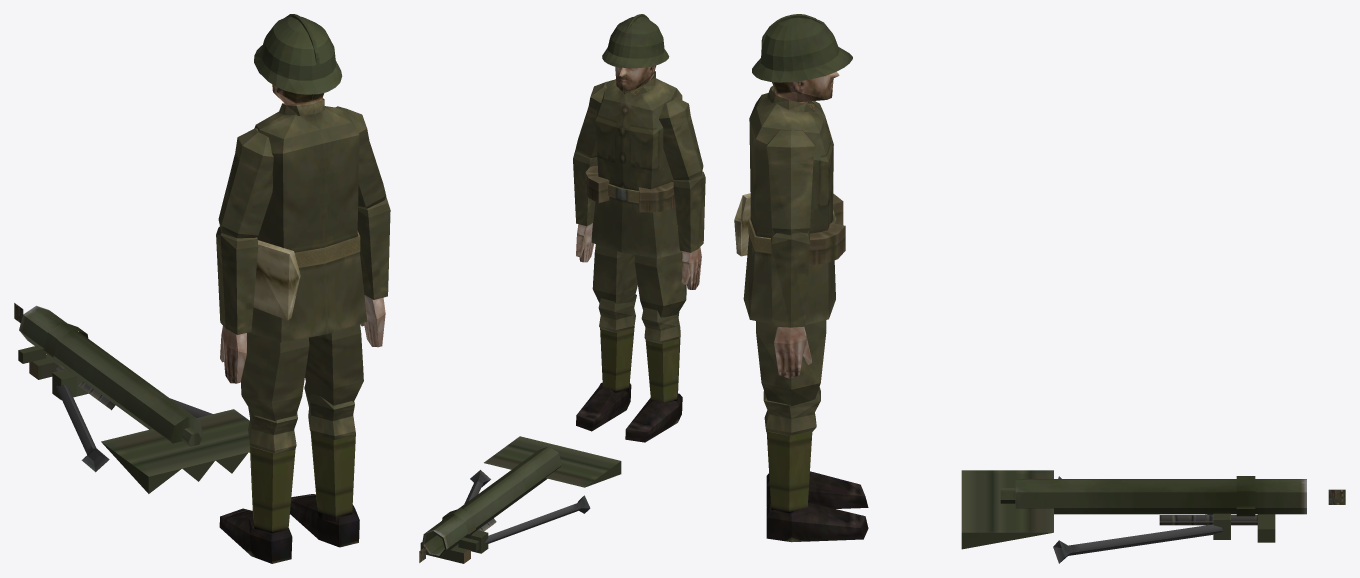
Rendered from us_mortar.glb.
3 renders of one model, left to right at view 1: azimuth 30°, elevation 25°; view 2: azimuth 150°, elevation 25°; view 3: azimuth 270°, elevation 25°, orthographic. The views are drawn at different scales.
Parts seen in each view (by area): view 1: torso, mortartube, mortarbase, head, rleg, lleg, lloarm, lthigh, luparm, rthigh, rloarm, mortarstand (+3 smaller); view 2: torso, mortartube, head, mortarbase, lleg, rleg, lloarm, lthigh, luparm, mortarstand, rthigh, rloarm (+3 smaller); view 3: torso, mortartube, head, mortarbase, rloarm, rleg, ruparm, mortarstand, rthigh, rfoot, lfoot.
Part boxes in pixels (x1,y1,x2,y2): torso: [248, 98, 367, 342]; mortartube: [19, 305, 202, 446]; mortarbase: [101, 409, 249, 493]; head: [254, 14, 342, 105]; rleg: [304, 382, 355, 521]; lleg: [248, 407, 297, 533]; lloarm: [216, 226, 258, 383]; lthigh: [241, 332, 309, 421]; luparm: [218, 128, 273, 238]; rthigh: [305, 324, 363, 405]; rloarm: [357, 196, 390, 347]; mortarstand: [18, 345, 212, 472]; torso: [585, 71, 682, 258]; mortartube: [422, 446, 561, 557]; head: [602, 14, 669, 91]; mortarbase: [484, 436, 621, 487]; lleg: [641, 307, 680, 403]; rleg: [598, 294, 636, 393]; lloarm: [673, 171, 705, 289]; lthigh: [634, 252, 686, 317]; luparm: [659, 97, 703, 180]; mortarstand: [420, 470, 590, 563]; rthigh: [592, 244, 637, 303]; rloarm: [573, 148, 597, 262]; torso: [734, 85, 845, 324]; mortartube: [1000, 476, 1306, 516]; head: [752, 14, 852, 103]; mortarbase: [961, 470, 1053, 549]; rloarm: [771, 229, 811, 378]; rleg: [763, 387, 820, 513]; ruparm: [766, 130, 815, 235]; mortarstand: [1053, 476, 1275, 563]; rthigh: [756, 320, 826, 406]; rfoot: [766, 502, 868, 542]; lfoot: [766, 471, 868, 508].
Size of the model in its own units: 0.5754 by 1.8 by 1.93.
Materials: 1 (1 with a texture image).
